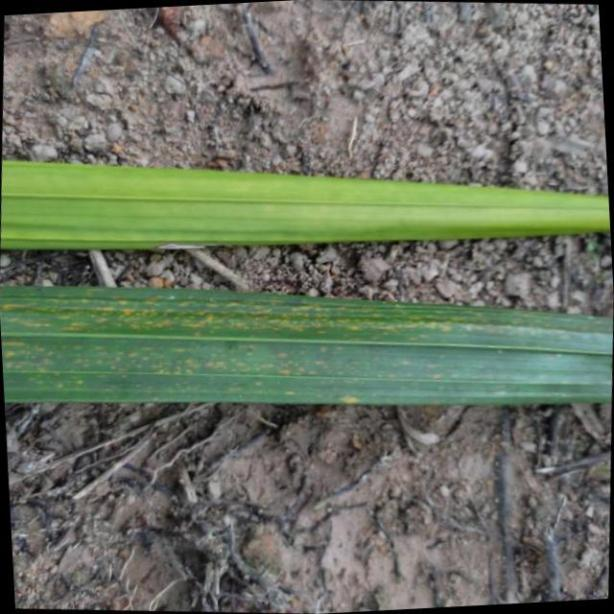nitrogen: (5, 280, 614, 409), (0, 155, 614, 251)
